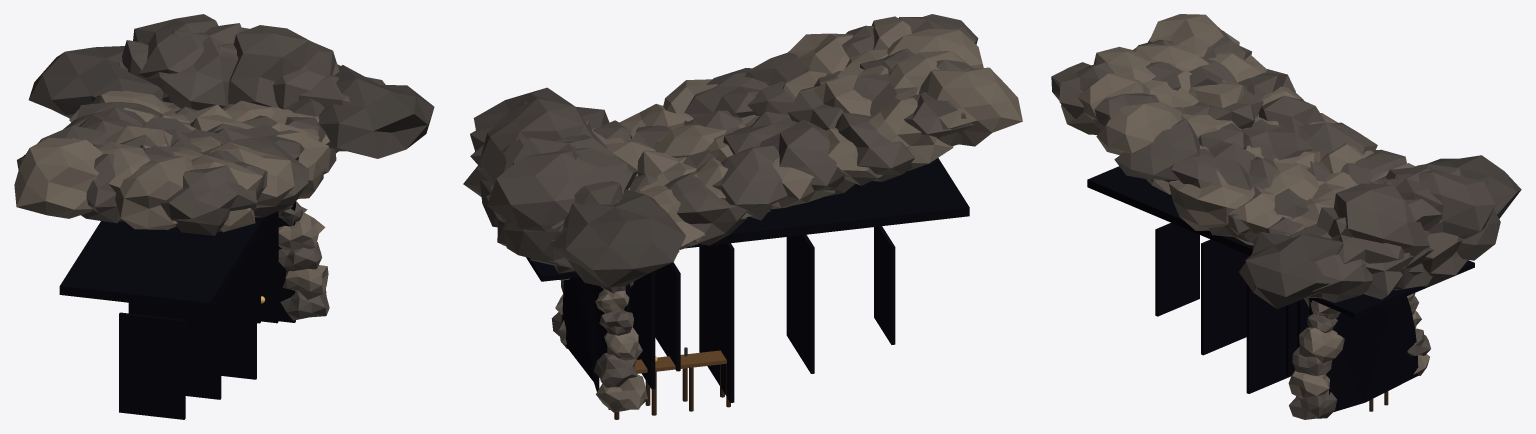
Rendered from coast_smugglers_throat.glb.
The picture shows the model from 3 angles, left to right: view 1: azimuth 30°, elevation 25°; view 2: azimuth 150°, elevation 25°; view 3: azimuth 270°, elevation 25°; orthographic projection. The views are drawn at different scales.
Visible parts, largest first — view 1: geometry_0; view 2: geometry_0; view 3: geometry_0.
Boxes of the visible parts, box(x1,y1,x2,y2) form: geometry_0: box(14, 14, 434, 419); geometry_0: box(463, 14, 1022, 419); geometry_0: box(1051, 14, 1521, 419).
Bounding box in the file's own units: 57.32 × 36.83 × 55.33.
